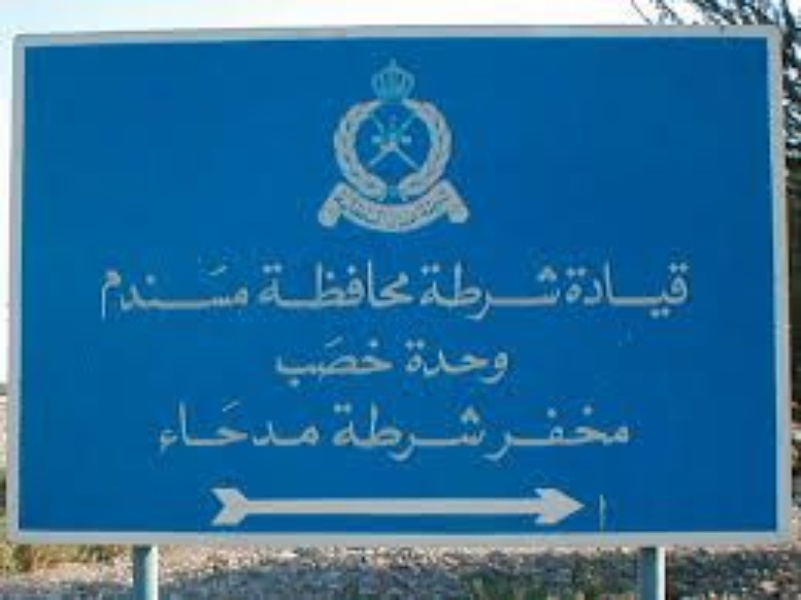text: (337, 399, 352, 468), (353, 399, 368, 468), (369, 399, 384, 468), (385, 399, 400, 468), (401, 399, 416, 468), (417, 399, 432, 468), (433, 399, 448, 468), (449, 399, 464, 468), (465, 399, 480, 468), (481, 399, 496, 468), (577, 257, 592, 322), (593, 257, 608, 322), (609, 257, 624, 322), (625, 257, 640, 322), (641, 257, 656, 322), (657, 257, 672, 322), (433, 257, 448, 322), (449, 257, 464, 322), (465, 257, 480, 322), (481, 257, 496, 322), (497, 257, 512, 322), (513, 257, 528, 322), (529, 257, 544, 322), (545, 257, 560, 322), (673, 257, 687, 322), (418, 257, 432, 322), (161, 396, 176, 455), (177, 396, 192, 455), (193, 396, 208, 455), (209, 396, 224, 455), (225, 396, 240, 455), (241, 396, 256, 455), (257, 396, 272, 455), (273, 396, 288, 455), (289, 396, 304, 455), (305, 396, 320, 455), (513, 403, 528, 461), (529, 403, 544, 461), (545, 403, 560, 461), (561, 403, 576, 461), (577, 403, 592, 461), (593, 403, 608, 461), (609, 403, 624, 461), (563, 257, 576, 322), (257, 254, 272, 310), (273, 254, 288, 310), (289, 254, 304, 310), (305, 254, 320, 310), (321, 254, 336, 310), (337, 254, 352, 310), (353, 254, 368, 310), (369, 254, 384, 310), (385, 254, 400, 310), (401, 254, 416, 310), (113, 263, 128, 319), (129, 263, 144, 319), (145, 263, 160, 319), (161, 263, 176, 319), (177, 263, 192, 319), (193, 263, 208, 319), (209, 263, 224, 319), (225, 263, 240, 319), (273, 335, 288, 390), (289, 335, 304, 390), (305, 335, 320, 390), (321, 335, 336, 390), (337, 335, 352, 390), (353, 335, 368, 390), (369, 335, 384, 390), (625, 403, 638, 461), (417, 338, 432, 387), (433, 338, 448, 387), (449, 338, 464, 387), (465, 338, 480, 387), (481, 338, 496, 387), (241, 263, 254, 319), (403, 338, 416, 387), (497, 399, 505, 468), (497, 338, 508, 387), (103, 263, 112, 319), (385, 335, 393, 390), (331, 399, 336, 468), (158, 396, 160, 455), (321, 396, 322, 455), (511, 403, 512, 461), (417, 254, 418, 310)
